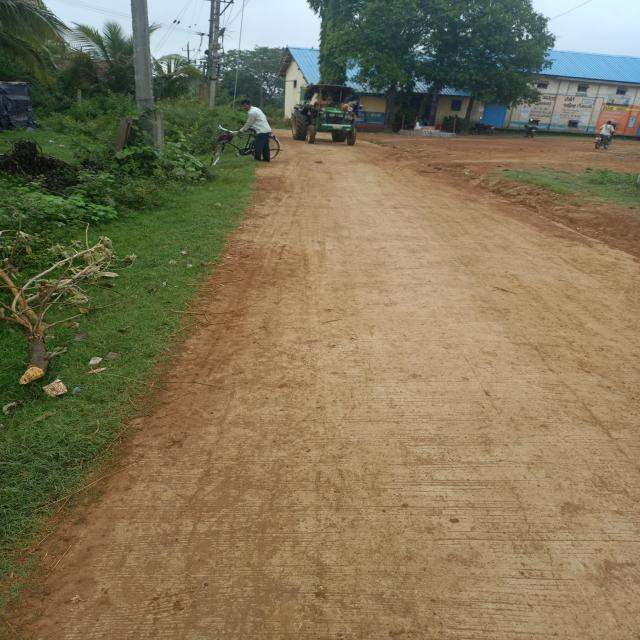Tractot: (276, 80, 386, 150)
